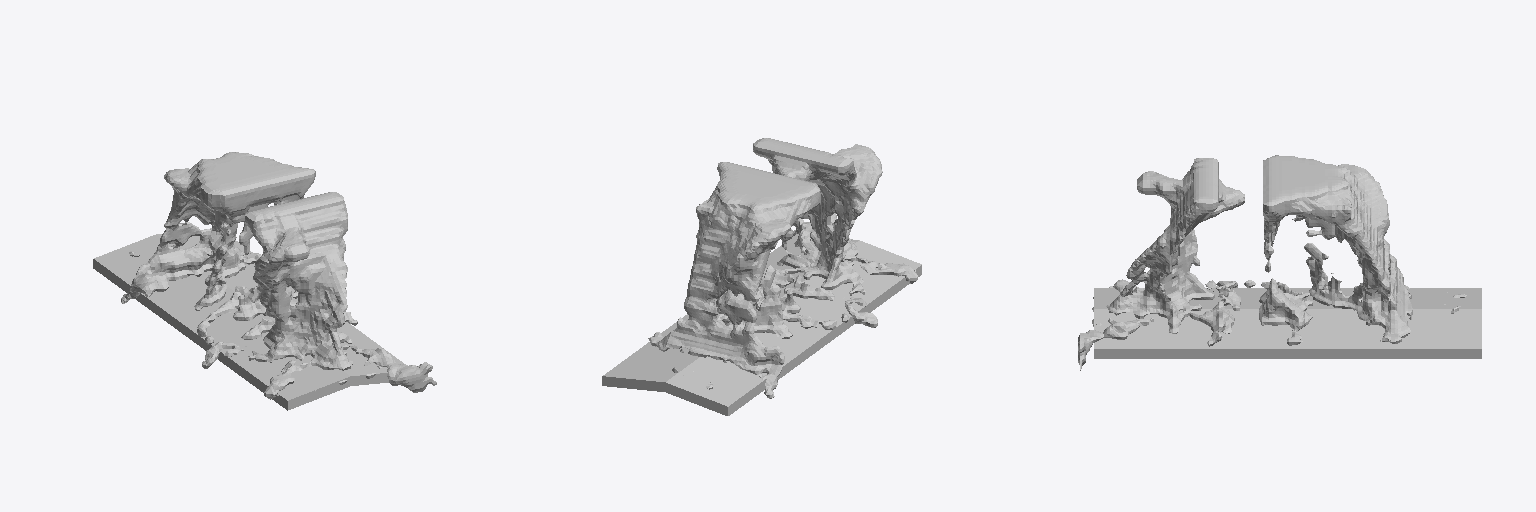
The model's file is Watersim_000028.obj.
The picture shows the model from 3 angles: view 1: azimuth 30°, elevation 25°; view 2: azimuth 150°, elevation 25°; view 3: azimuth 270°, elevation 25°; orthographic projection.
Visible parts, largest first — view 1: Domain_Cube.006, Straße_Cube.007; view 2: Domain_Cube.006, Straße_Cube.007; view 3: Domain_Cube.006, Straße_Cube.007.
Part boxes in pixels (left/top/right/bottom): Domain_Cube.006: left=121, top=152, right=436, bottom=399; Straße_Cube.007: left=93, top=229, right=405, bottom=410; Domain_Cube.006: left=648, top=138, right=917, bottom=398; Straße_Cube.007: left=602, top=234, right=921, bottom=415; Domain_Cube.006: left=1078, top=155, right=1466, bottom=370; Straße_Cube.007: left=1094, top=288, right=1481, bottom=358.
Bounding box in the file's own units: 2.94 × 2.71 × 6.31.